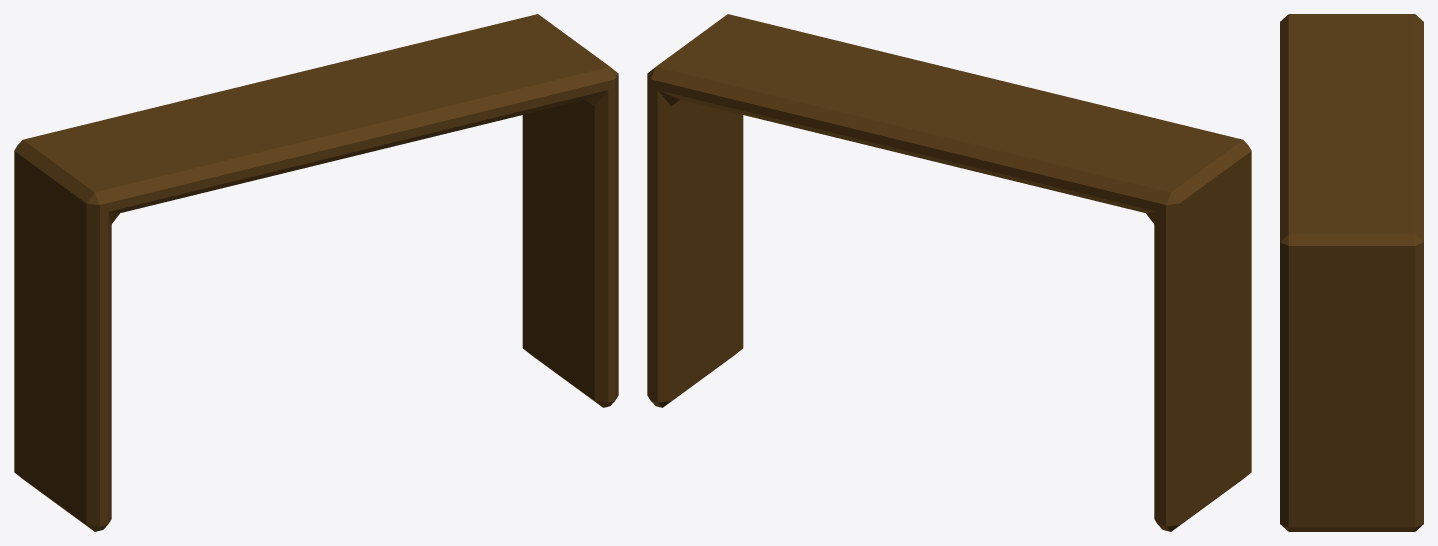
File: mesa 5.fbx
The picture shows the model from 3 angles, left to right: view 1: azimuth 30°, elevation 25°; view 2: azimuth 150°, elevation 25°; view 3: azimuth 270°, elevation 25°; orthographic projection. The views are drawn at different scales.
Visible parts, largest first — view 1: Mesa de pared; view 2: Mesa de pared; view 3: Mesa de pared.
Boxes of the visible parts, x1,y1,x2,y2 form: Mesa de pared: [14, 14, 618, 531]; Mesa de pared: [647, 14, 1251, 531]; Mesa de pared: [1280, 14, 1423, 531].
Bounding box in the file's own units: 291 × 177 × 77.65.
